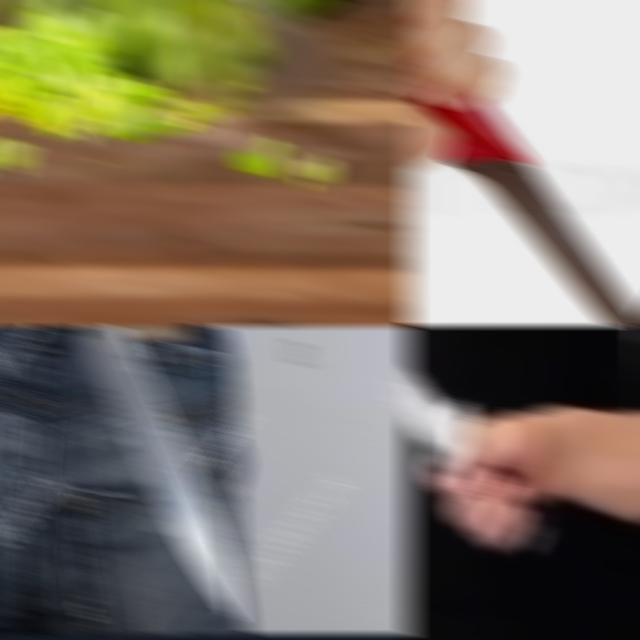Knife: (416, 96, 640, 327), (67, 325, 239, 617)
Knife_Handle: (0, 325, 256, 633), (0, 0, 340, 97), (404, 325, 546, 548)
